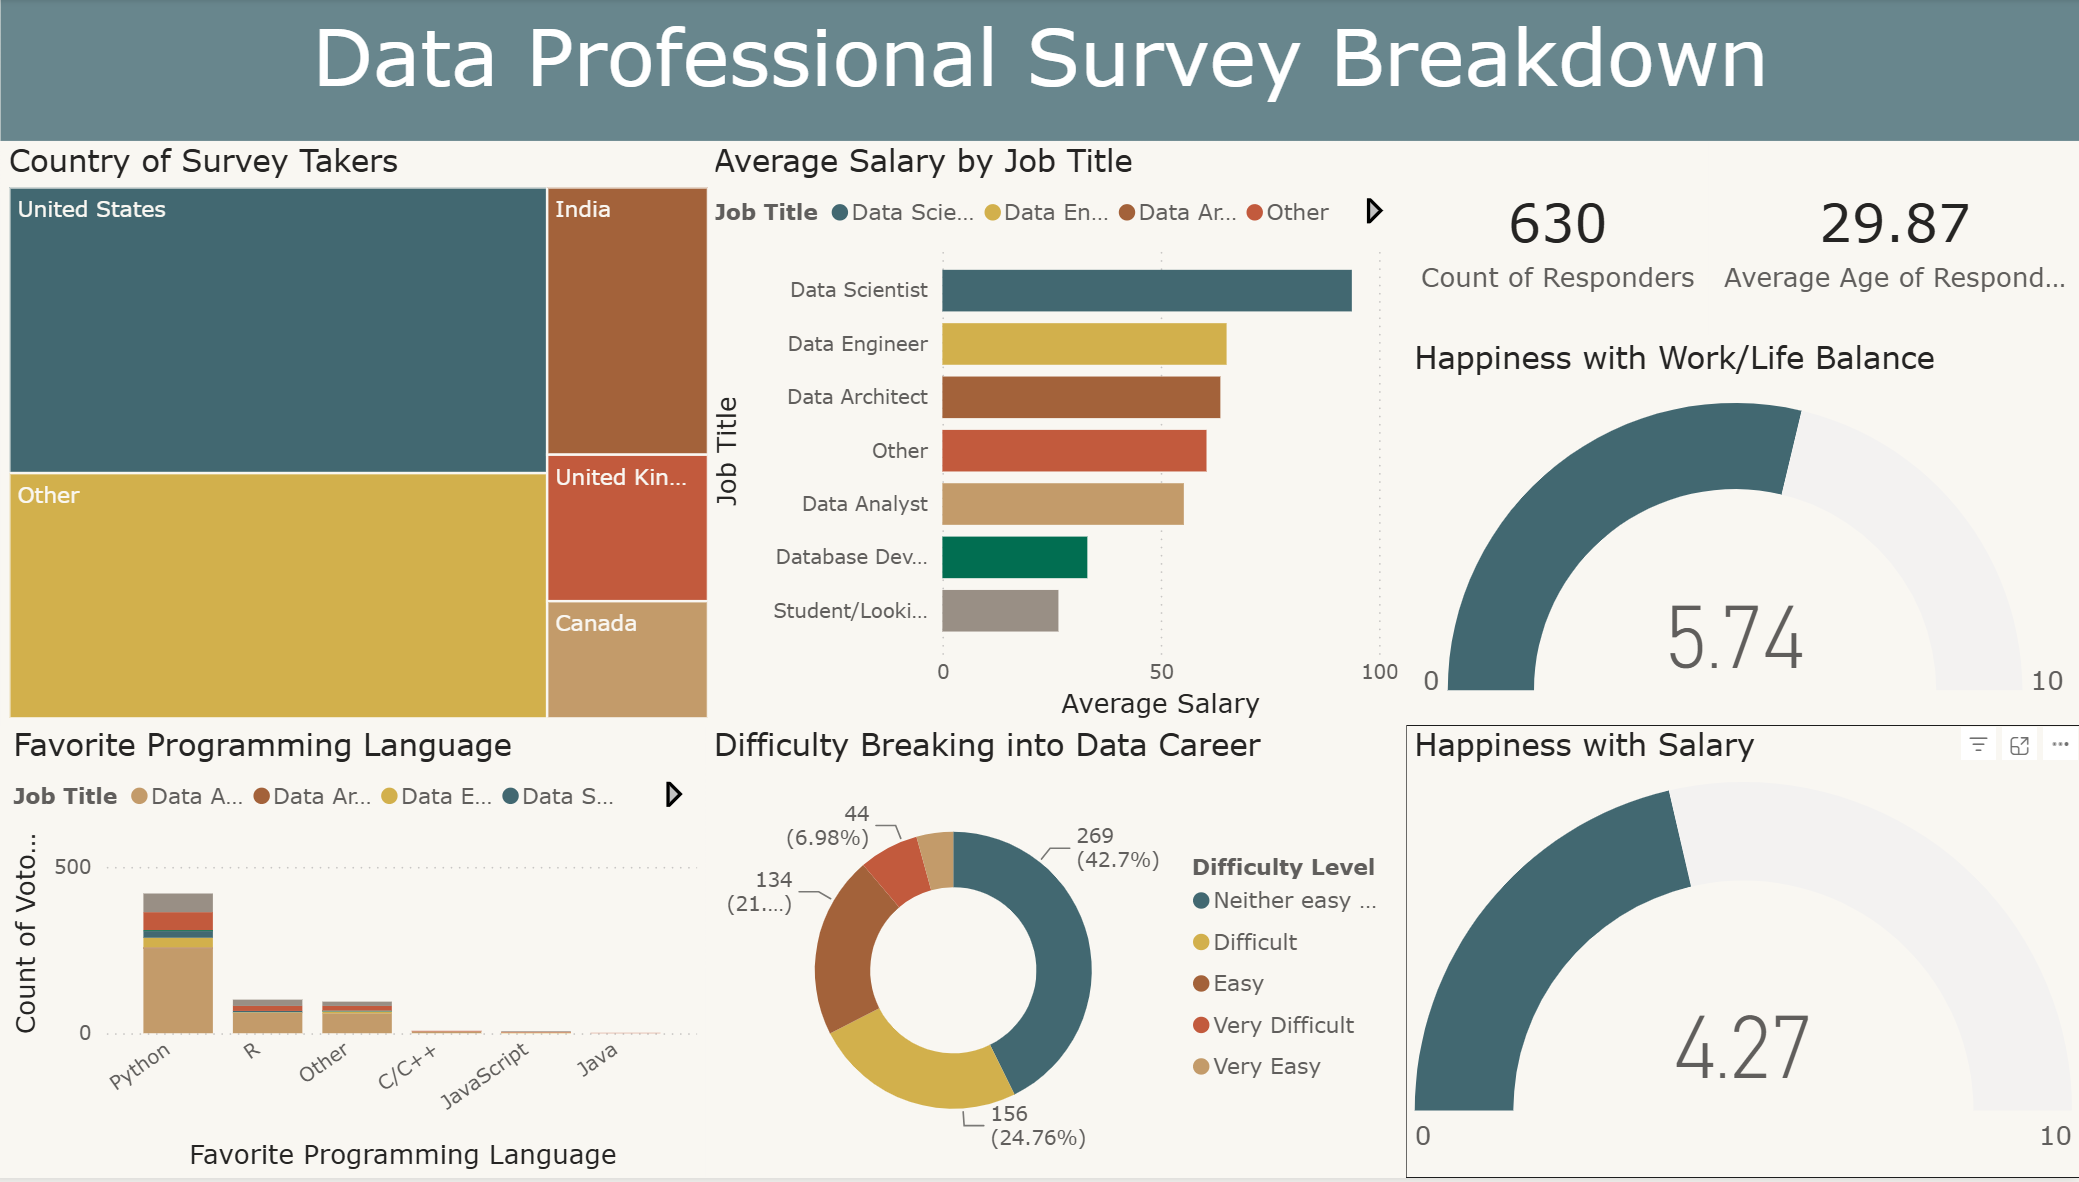

Layout of this report page (visuals, bound fields, positions):
{"tool":"powerbi","page":{"name":"Page 1","canvas":[1280,720],"ordinal":0},"visuals":[{"type":"textbox","box":[9.7,0,1270.3,86.6],"z":0},{"type":"card","fields":{"Values":["Count(Data Professional Survey.Unique ID)"]},"box":[868.6,86.6,184.8,117.7],"z":1000},{"type":"card","fields":{"Values":["Avg(Data Professional Survey.Q10 - Current Age)"]},"box":[1053.4,86.6,226.6,117.7],"z":2000},{"type":"barChart","title":"Average Salary by Job Title","fields":{"Category":["Data Professional Survey.Q1 - Which Title Best Fits your Current Role?.1"],"Y":["Avg(Data Professional Survey.Average Salary)"],"Series":["Data Professional Survey.Q1 - Which Title Best Fits your Current Role?.1"]},"box":[440.6,86.6,428,357],"z":3000},{"type":"columnChart","title":"Favorite Programming Language","fields":{"Category":["Data Professional Survey.Q5 - Favorite Programming Language.1"],"Y":["CountNonNull(Data Professional Survey.Unique ID)"],"Series":["Data Professional Survey.Q1 - Which Title Best Fits your Current Role?.1"]},"box":[12.6,443.5,428,276.2],"z":4000},{"type":"treemap","title":"Country of Survey Takers","fields":{"Group":["Data Professional Survey.Q11 - Which Country do you live in?.1"],"Values":["CountNonNull(Data Professional Survey.Q11 - Which Country do you live in?.1)"]},"box":[9.7,86.6,436.7,357],"z":5000},{"type":"gauge","title":"Happiness with Work/Life Balance","fields":{"Y":["Avg(Data Professional Survey.Q6 - How Happy are you in your Current Position with the following? (Work/Life Balance))"],"MinValue":["Min(Data Professional Survey.Q6 - How Happy are you in your Current Position with the following? (Work/Life Balance))"],"MaxValue":["Max(Data Professional Survey.Q6 - How Happy are you in your Current Position with the following? (Work/Life Balance))1"]},"box":[868.6,207.2,411.4,236.4],"z":6000},{"type":"gauge","title":"Happiness with Salary","fields":{"Y":["Avg(Data Professional Survey.Q6 - How Happy are you in your Current Position with the following? (Salary))"],"MinValue":["Min(Data Professional Survey.Q6 - How Happy are you in your Current Position with the following? (Salary))"],"MaxValue":["Max(Data Professional Survey.Q6 - How Happy are you in your Current Position with the following? (Salary))"]},"box":[868.6,443.5,411.4,276.2],"z":7000},{"type":"donutChart","title":"Difficulty Breaking into Data Career","fields":{"Category":["Data Professional Survey.Q7 - How difficult was it for you to break into Data?","Data Professional Survey.Q9 - Male/Female?"],"Y":["CountNonNull(Data Professional Survey.Q7 - How difficult was it for you to break into Data?)"]},"box":[440.6,443.5,428,276.2],"z":8000}]}

Visuals, with their boxes in screenshot pixels (x1, y1, x2, y2), scaled from the page's 1280x720 canvas onto the 2079x1182 screenshot:
textbox: region(16, 0, 2078, 142)
card - Count(Data Professional Survey.Unique ID): region(1411, 142, 1711, 335)
card - Avg(Data Professional Survey.Q10 - Current Age): region(1711, 142, 2078, 335)
"Average Salary by Job Title" barChart: region(716, 142, 1411, 728)
"Favorite Programming Language" columnChart: region(20, 728, 716, 1181)
"Country of Survey Takers" treemap: region(16, 142, 725, 728)
"Happiness with Work/Life Balance" gauge: region(1411, 340, 2078, 728)
"Happiness with Salary" gauge: region(1411, 728, 2078, 1181)
"Difficulty Breaking into Data Career" donutChart: region(716, 728, 1411, 1181)
